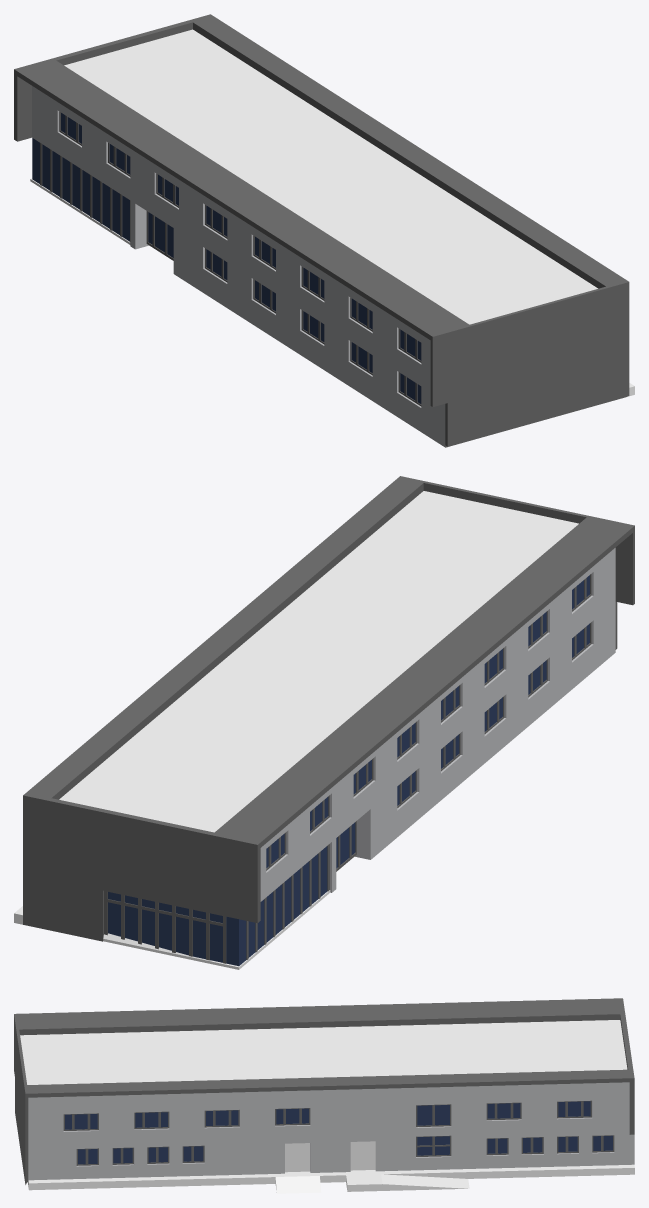
File: Building_V.fbx
The picture shows the model from 3 angles, top to bottom: view 1: azimuth 30°, elevation 25°; view 2: azimuth 150°, elevation 25°; view 3: azimuth 270°, elevation 25°; orthographic projection. The views are drawn at different scales.
Visible parts, largest first — view 1: Building_V; view 2: Building_V; view 3: Building_V.
Boxes of the visible parts, <box> form: Building_V: <box>14,14,634,447</box>; Building_V: <box>14,476,634,969</box>; Building_V: <box>14,998,634,1193</box>.
Bounding box in the file's own units: 14.04 × 5.99 × 36.1.
